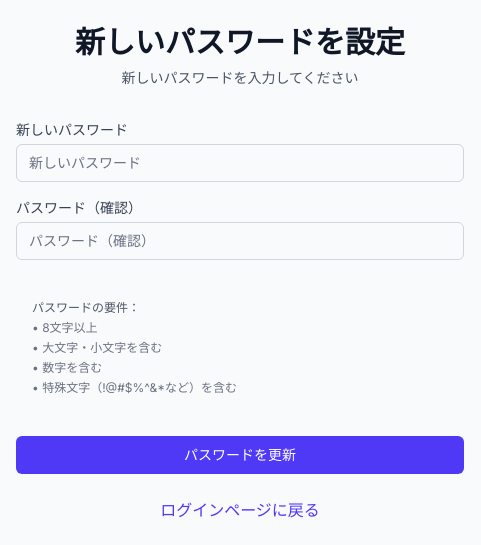
it: ResetPasswordPage › トークンありの場合（パスワード設定） › 新しいパスワードを設定できる
In the password field labelled "新しいパスワード": (240, 163) [16,144,464,182], type "NewTest123!@#"
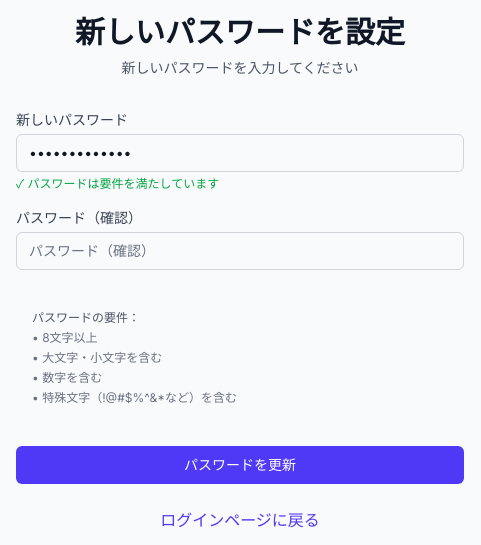
In the password field labelled "パスワード（確認）": (240, 251) [16,232,464,270], type "NewTest123!@#"
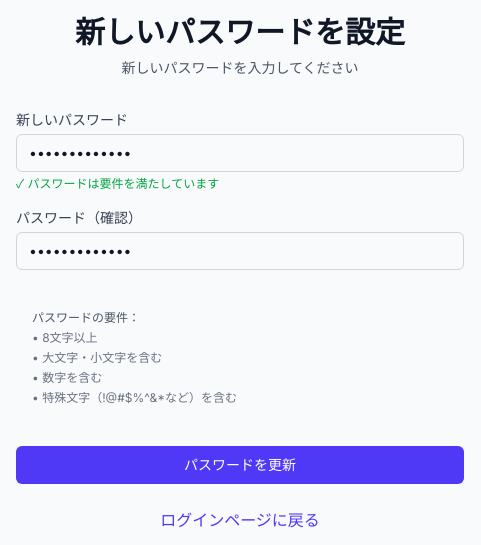
Click the button "パスワードを更新": (240, 465) [16,446,464,484]
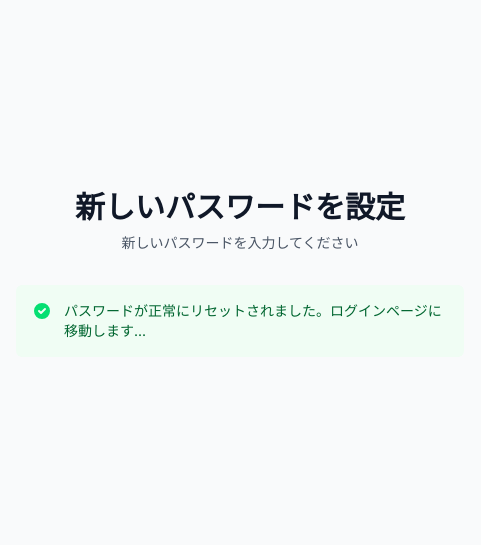
Expected: the text "パスワードが正常にリセットされました。ログインページに移動します..." is shown, [64,301,448,341]
